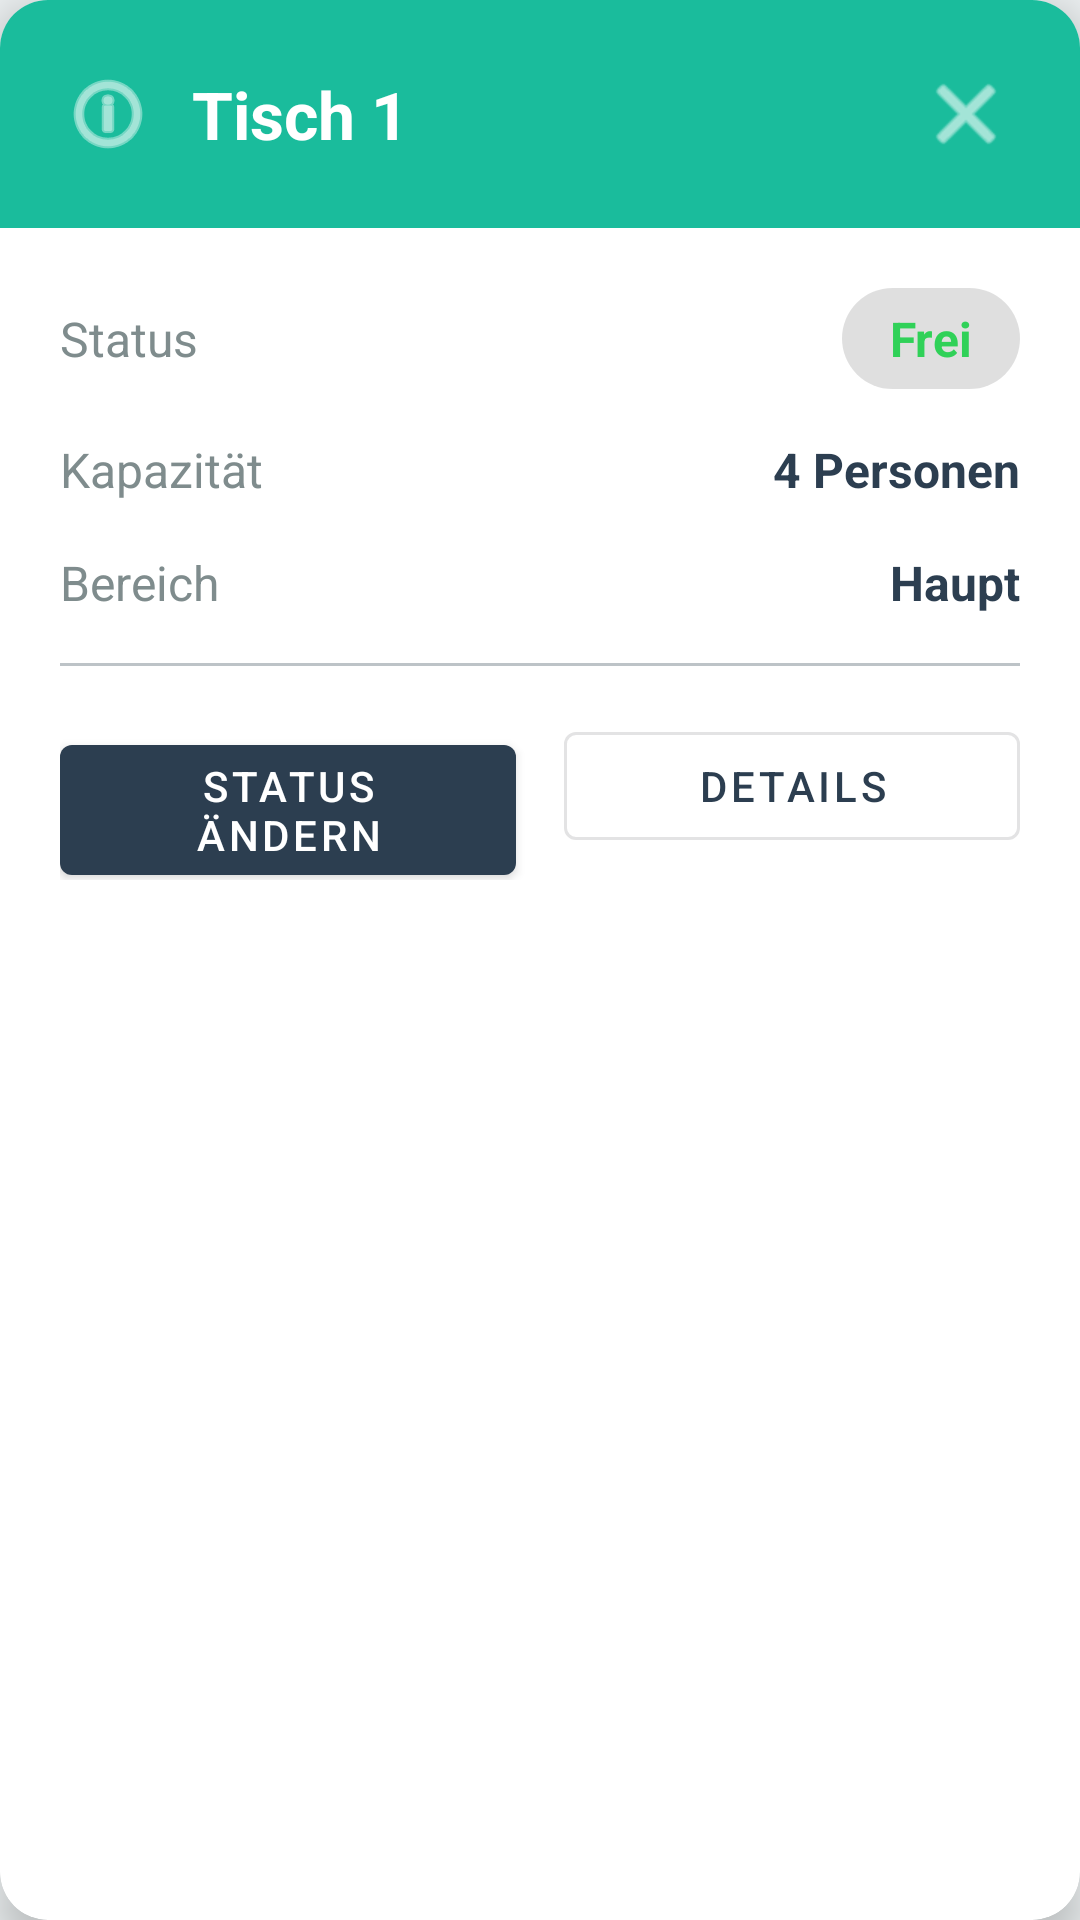

Screen size 1080 × 1920. Icon name, then its center in pixels as (x=x, y=y):
Close: (x=966, y=114)
